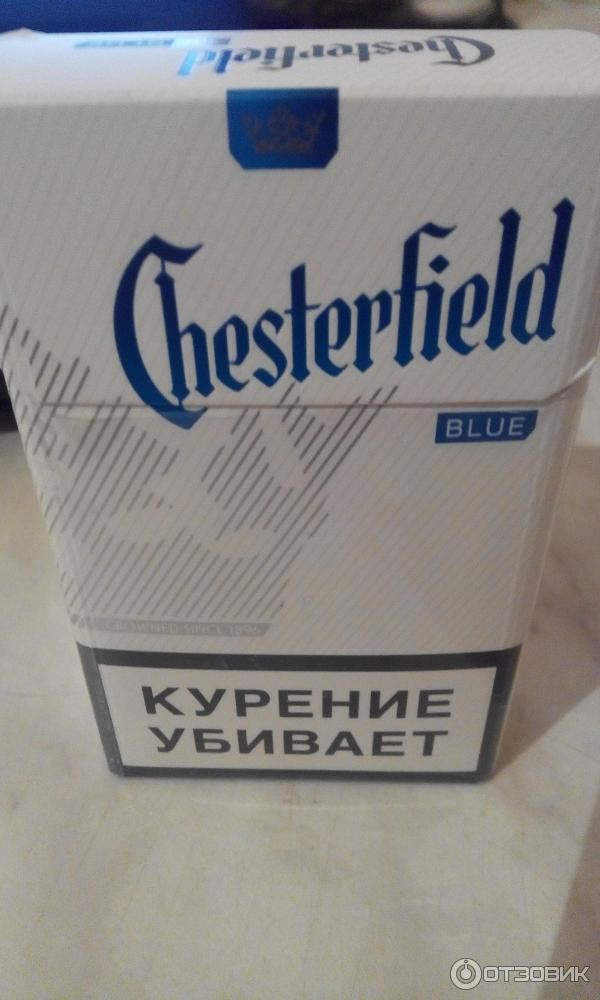chesterfield_blue: (40, 95, 582, 784)
